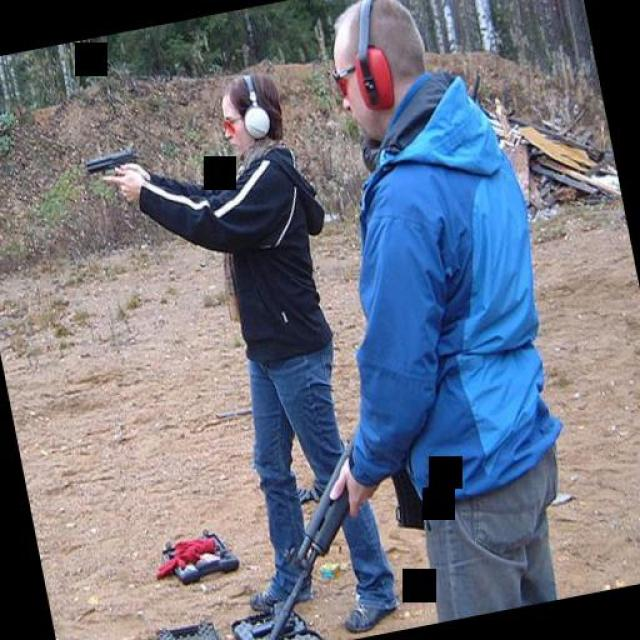gun: (84, 144, 146, 180)
